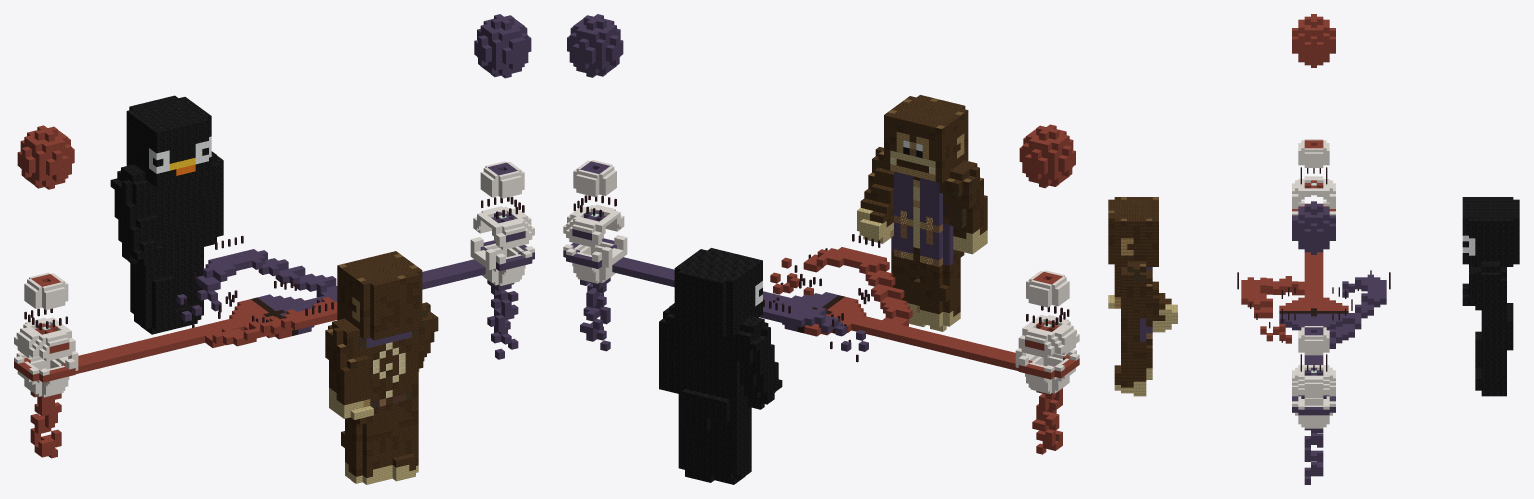
Rendered from minecraft.obj.
3 views of the same model, side by side, from view 1: azimuth 30°, elevation 25°; view 2: azimuth 150°, elevation 25°; view 3: azimuth 270°, elevation 25° (orthographic). The views are drawn at different scales.
Bounding box in the file's own units: 77 × 49 × 65.
